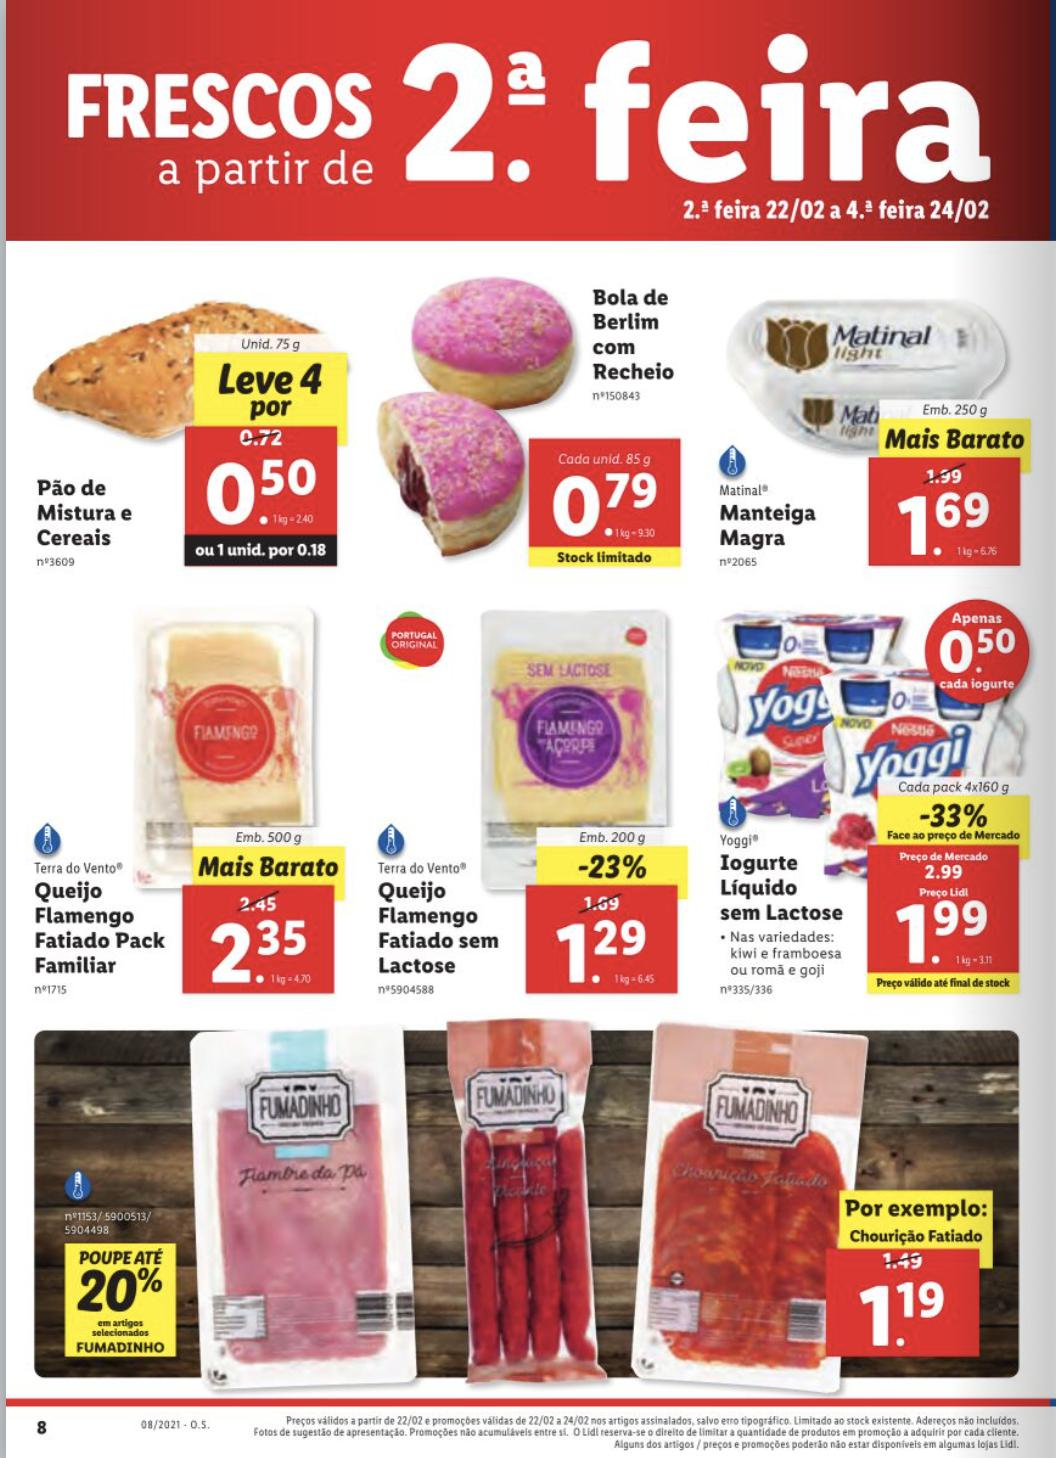name: (20, 877, 171, 979), (369, 875, 506, 979), (713, 854, 848, 928), (586, 283, 680, 386), (24, 472, 144, 552), (715, 495, 826, 554)
price: (868, 883, 1022, 975), (829, 1273, 980, 1363), (524, 464, 686, 548), (186, 446, 338, 533), (533, 912, 680, 993), (881, 484, 1015, 566), (197, 910, 328, 993)
product: (20, 1034, 1040, 1388), (7, 601, 360, 1006), (714, 595, 1045, 1010), (369, 601, 699, 1013), (357, 275, 696, 583), (9, 281, 353, 581), (707, 277, 1040, 578)
promotion: (69, 1246, 173, 1355), (189, 350, 340, 424), (877, 794, 1024, 841), (564, 846, 656, 883)
